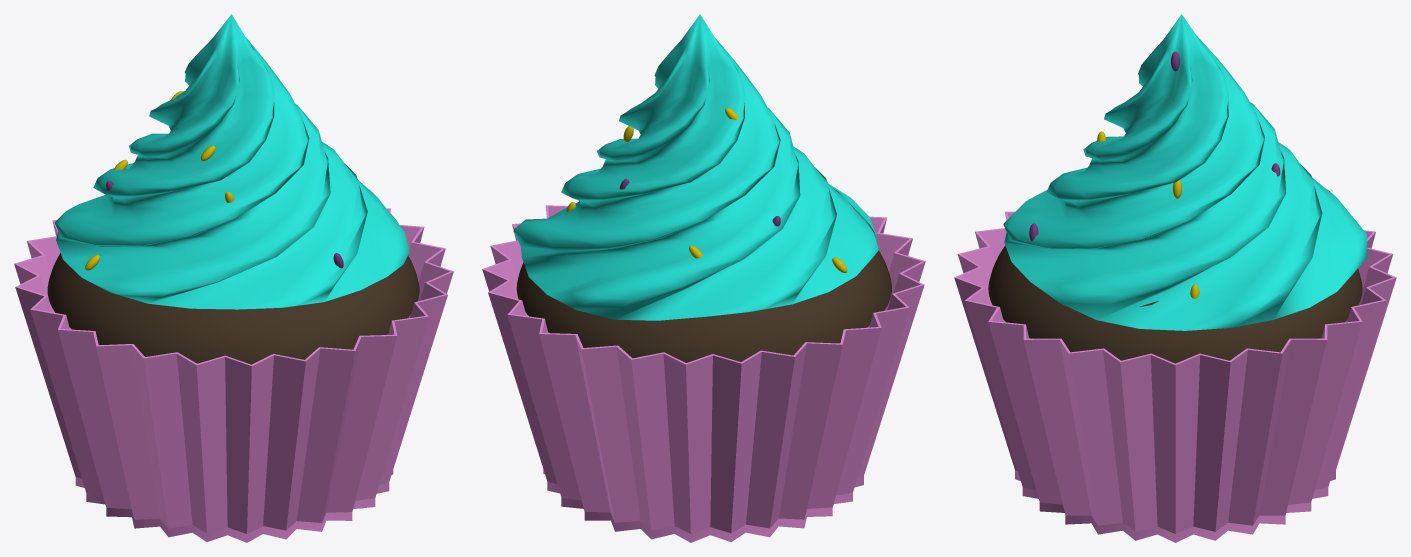
File: Cupcake.fbx
The picture shows the model from 3 angles, left to right: view 1: azimuth 30°, elevation 25°; view 2: azimuth 150°, elevation 25°; view 3: azimuth 270°, elevation 25°; orthographic projection.
Parts seen in each view (by area): view 1: pSphere30; view 2: pSphere30; view 3: pSphere30.
Part boxes in pixels (x1=…): pSphere30: x1=14, y1=14, x2=453, y2=542; pSphere30: x1=482, y1=14, x2=925, y2=542; pSphere30: x1=954, y1=14, x2=1396, y2=542.
Bounding box in the file's own units: 2.75 × 3.17 × 2.75.
